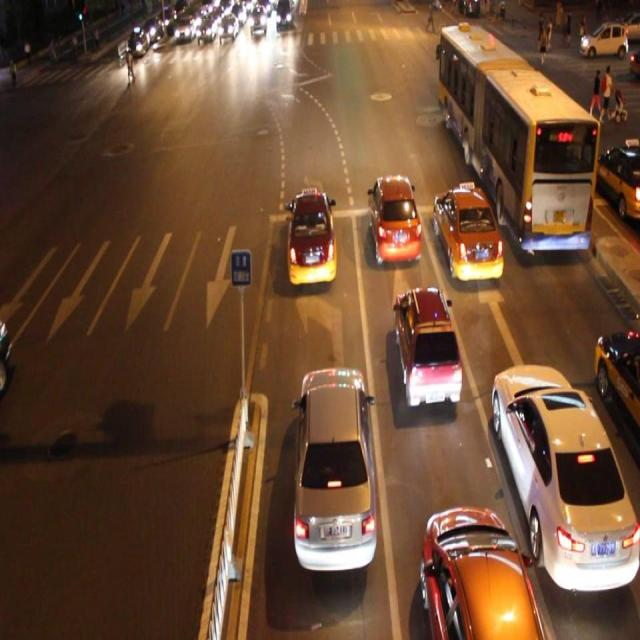car: (490, 361, 640, 589), (419, 503, 541, 640), (294, 368, 375, 572), (392, 288, 460, 407), (432, 186, 503, 281), (592, 326, 640, 438), (284, 187, 336, 285), (366, 172, 421, 264), (590, 136, 640, 220)
van: (437, 23, 598, 256)
